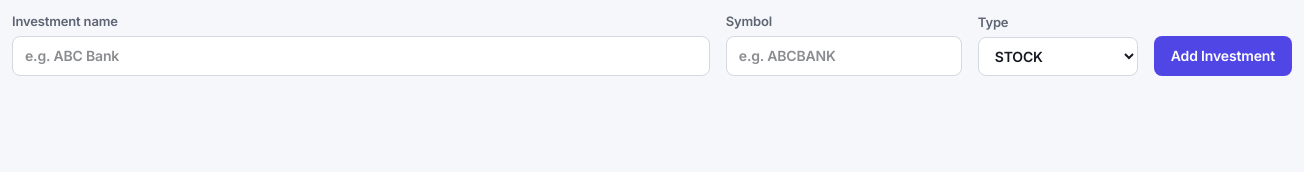
Test case: AddInvestmentForm › blank name/symbol shows an error
Click the button "Add Investment" at coordinates (1223, 56), box [1154, 36, 1292, 76]
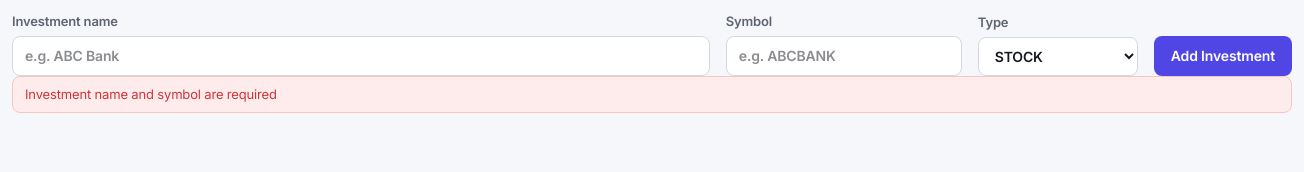
Check: the text "Investment name and symbol are required" is shown, box [12, 76, 1292, 113]
